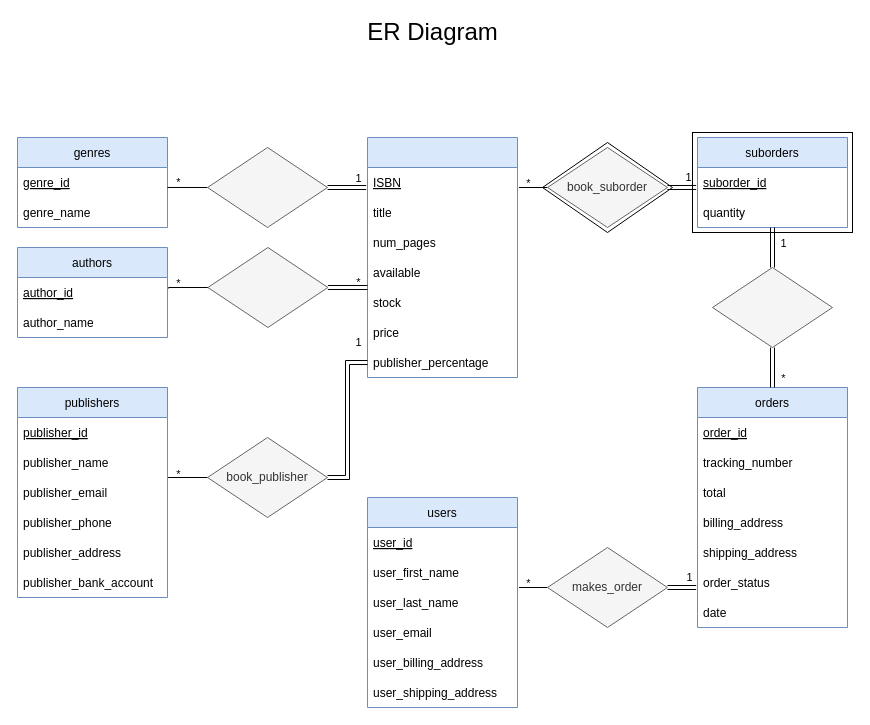
The diagram is 870 pixels wide and 725 high, and some of its shapes have lost their labels. Here are the shapes that lost their labels. From the top down, the box of each, then its label:
(206, 146, 328, 228): book_genre
(366, 136, 518, 378): books
(207, 246, 328, 328): book_author
(712, 266, 832, 348): order_info
